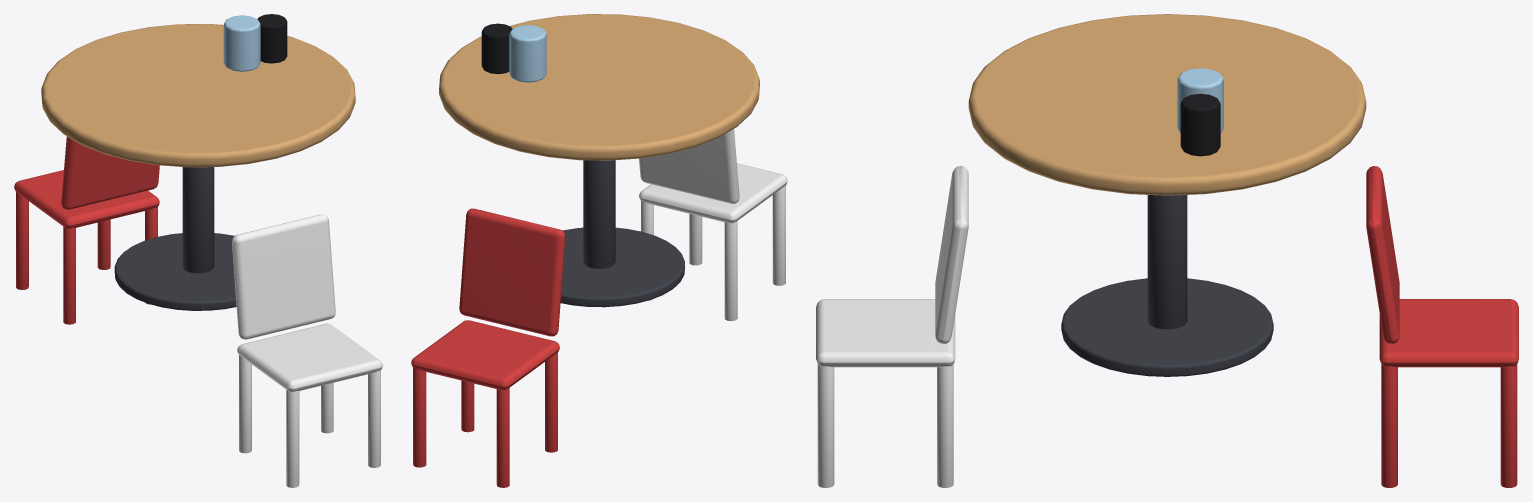
File: table_set.glb
The picture shows the model from 3 angles, left to right: view 1: azimuth 30°, elevation 25°; view 2: azimuth 150°, elevation 25°; view 3: azimuth 270°, elevation 25°; orthographic projection. The views are drawn at different scales.
Parts seen in each view (by area): view 1: Table, ChairFront, ChairBack; view 2: Table, ChairBack, ChairFront; view 3: Table, ChairBack, ChairFront.
Boxes of the visible parts, x1,y1,x2,y2 form: Table: [41, 14, 355, 310]; ChairFront: [232, 214, 382, 487]; ChairBack: [14, 136, 159, 324]; Table: [439, 14, 759, 307]; ChairBack: [411, 208, 565, 487]; ChairFront: [639, 129, 787, 321]; Table: [968, 14, 1366, 376]; ChairBack: [1366, 166, 1518, 487]; ChairFront: [816, 166, 968, 487].
Size of the model in its own units: 1.2 by 1.39 by 2.12.
